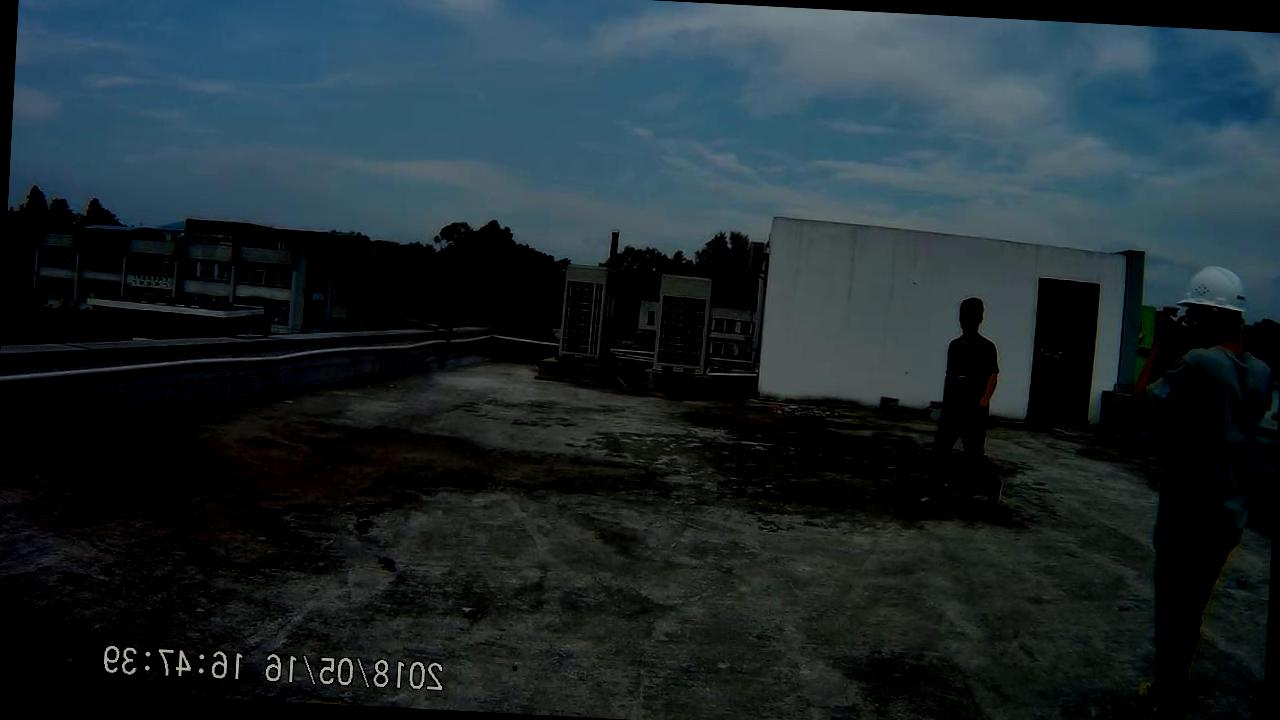helmet: (1180, 262, 1246, 310)
no_vest: (1156, 327, 1269, 550), (936, 326, 992, 438)
person: (1112, 259, 1267, 720), (909, 296, 1004, 516)
